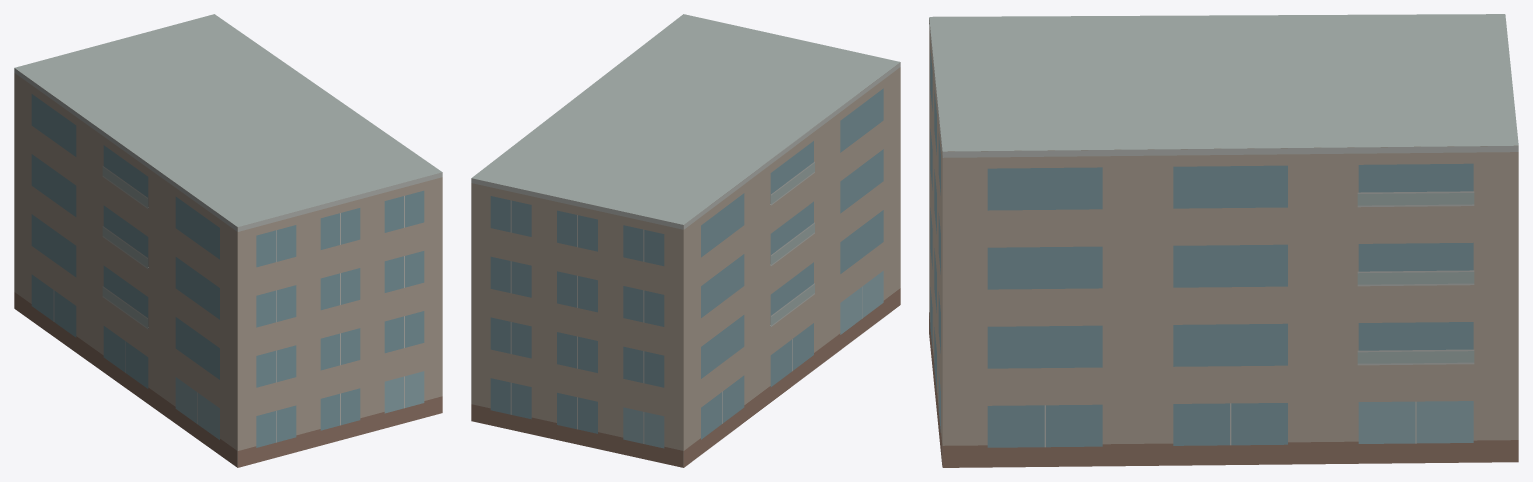
File: residential-6f0c61c4-154c-442b-bb63-66db283a8906.glb
The picture shows the model from 3 angles, left to right: view 1: azimuth 30°, elevation 25°; view 2: azimuth 150°, elevation 25°; view 3: azimuth 270°, elevation 25°; orthographic projection. The views are drawn at different scales.
Visible parts, largest first — view 1: residential-6f0c61c4-154c-442b-bb63-66db283a8906.tmp; view 2: residential-6f0c61c4-154c-442b-bb63-66db283a8906.tmp; view 3: residential-6f0c61c4-154c-442b-bb63-66db283a8906.tmp.
Part boxes in pixels (x1,y1,x2,y2): residential-6f0c61c4-154c-442b-bb63-66db283a8906.tmp: (14, 14, 442, 467); residential-6f0c61c4-154c-442b-bb63-66db283a8906.tmp: (471, 14, 900, 467); residential-6f0c61c4-154c-442b-bb63-66db283a8906.tmp: (929, 14, 1518, 467).
Bounding box in the file's own units: 11.38 × 12.2 × 20.62.
